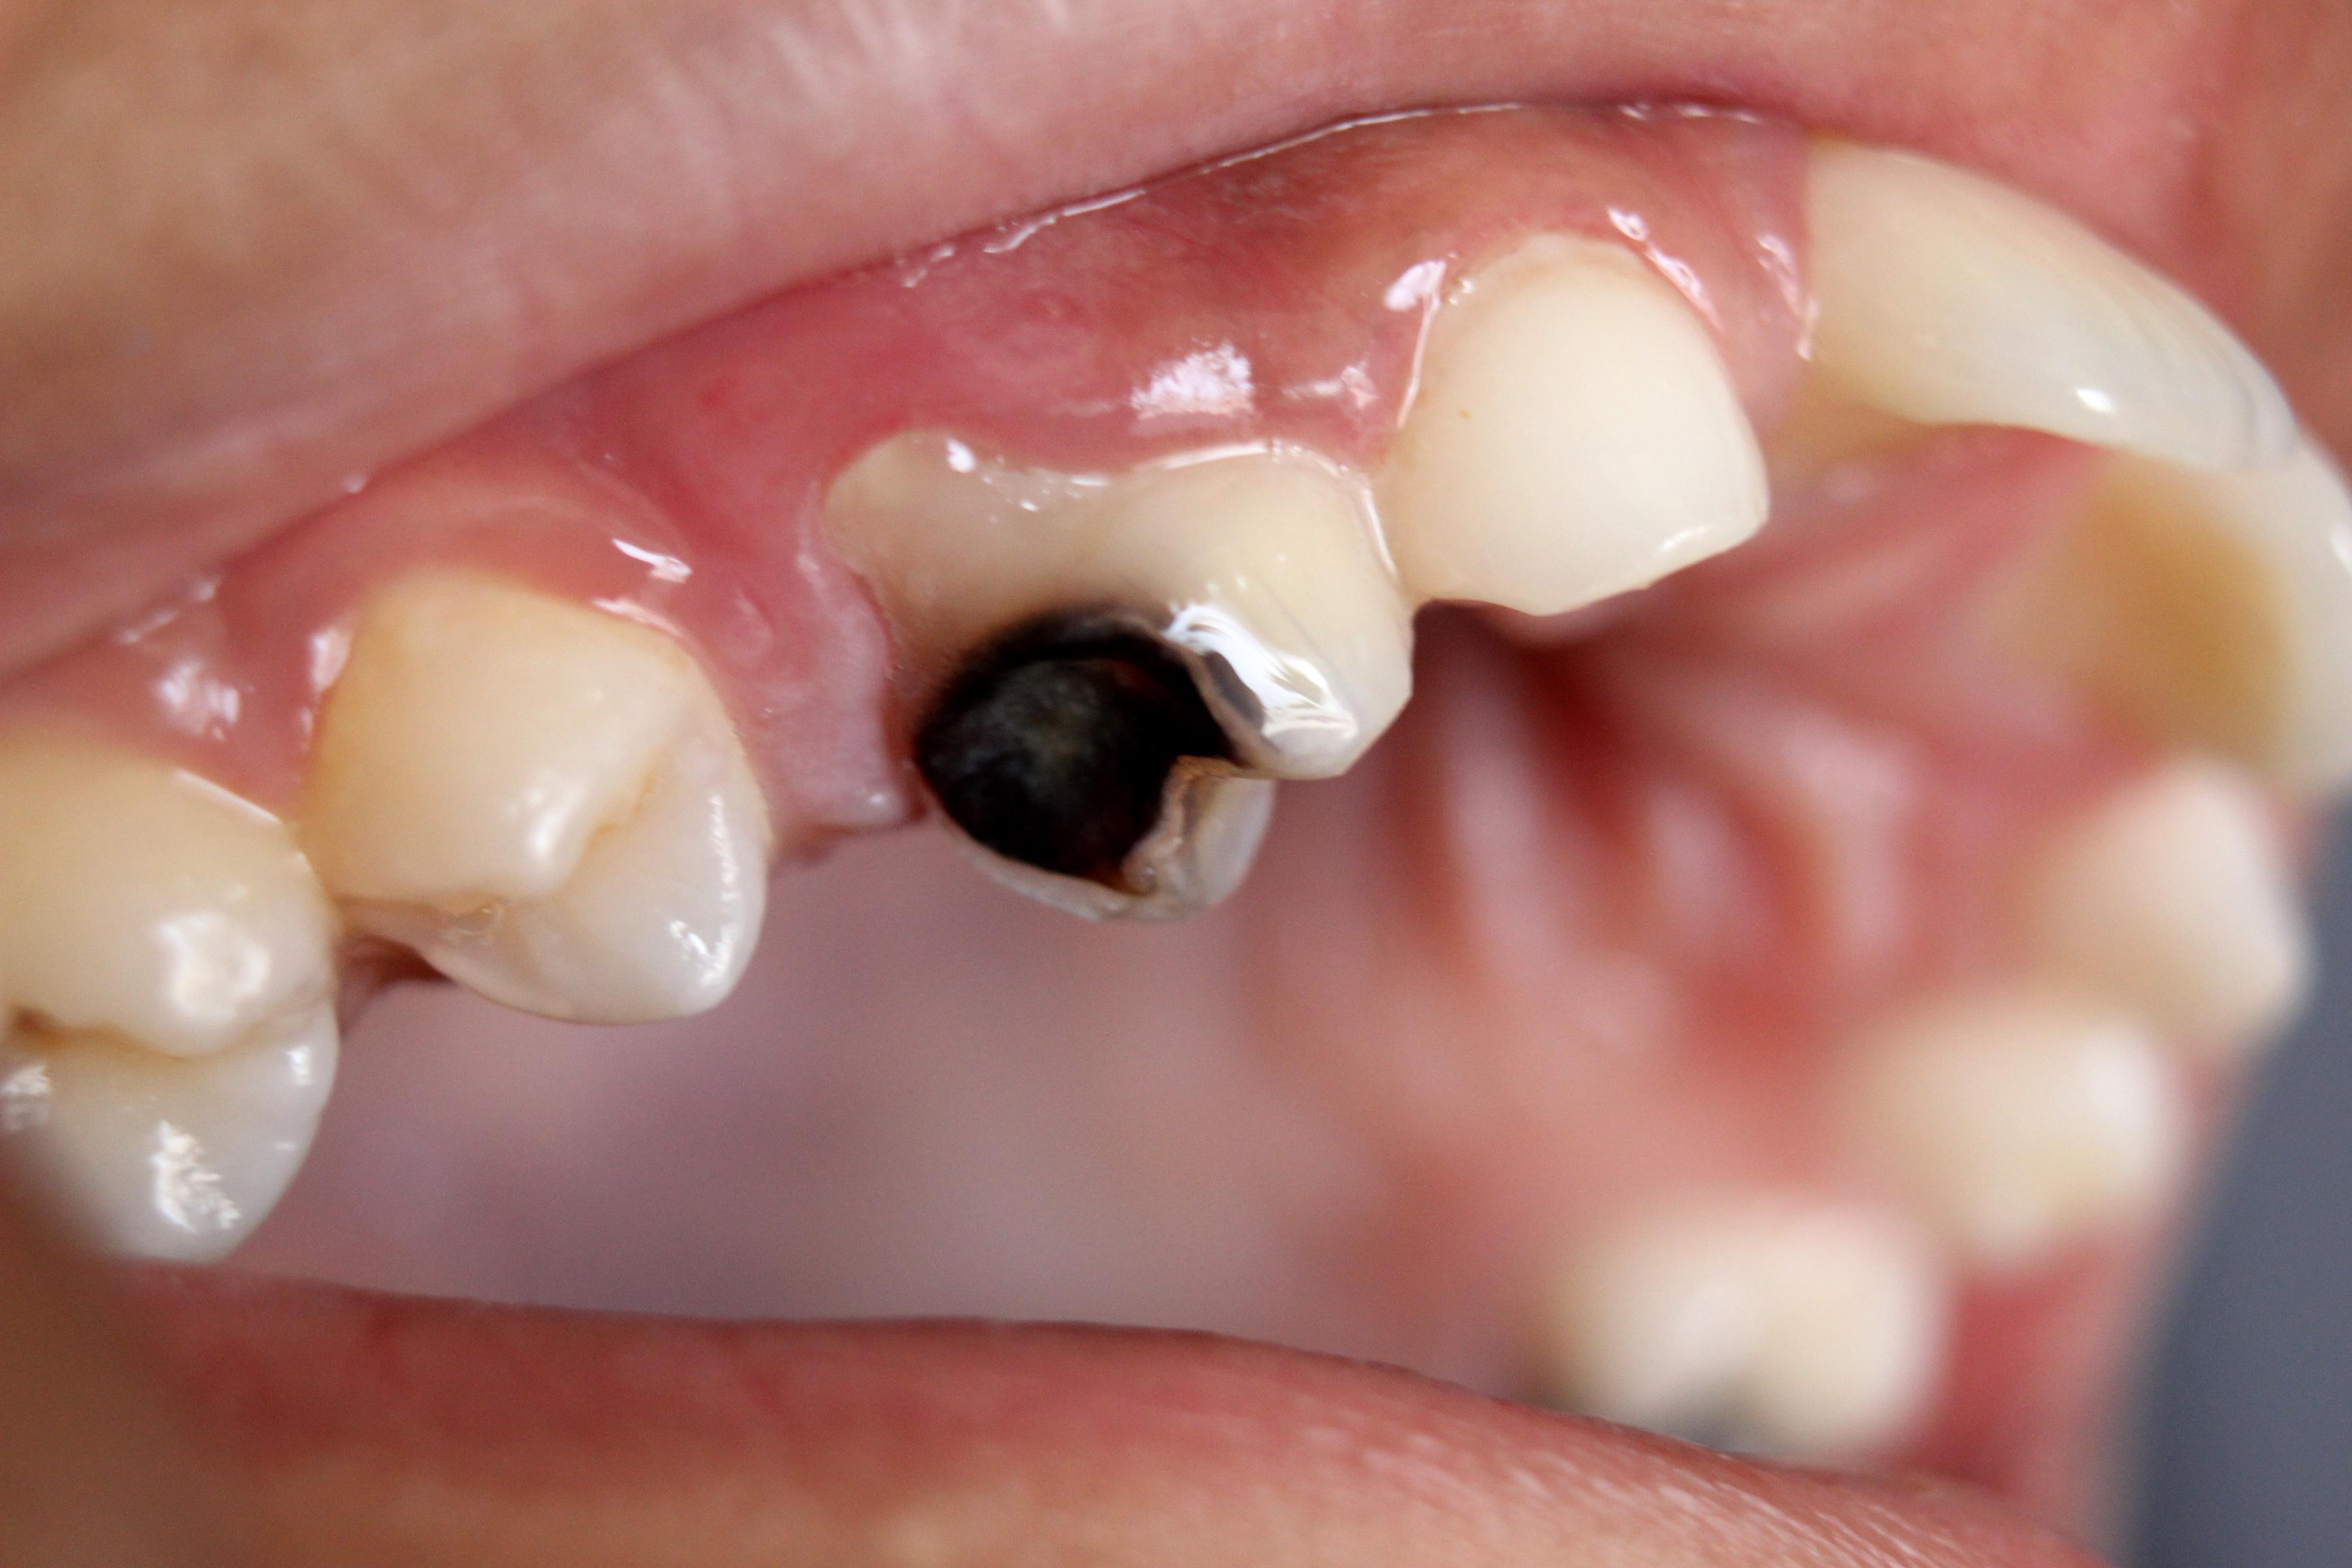cavity: (851, 410, 1423, 936), (1551, 1188, 1937, 1482)
normal: (319, 579, 768, 1029), (0, 742, 347, 1267), (1787, 130, 2303, 476), (1416, 240, 1781, 662), (2079, 410, 2352, 828), (1852, 985, 2214, 1286), (2051, 782, 2305, 1041)
